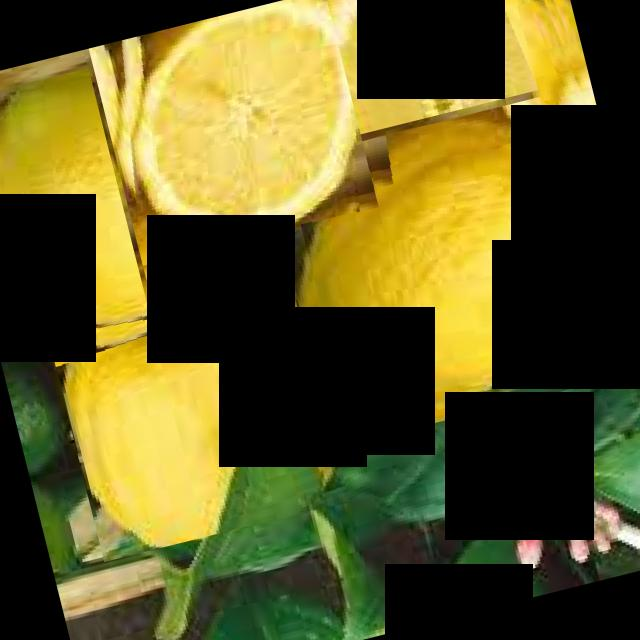lemon: (262, 90, 636, 448), (34, 214, 368, 562), (88, 0, 378, 265), (0, 67, 150, 355), (303, 0, 586, 139), (507, 0, 612, 182)
